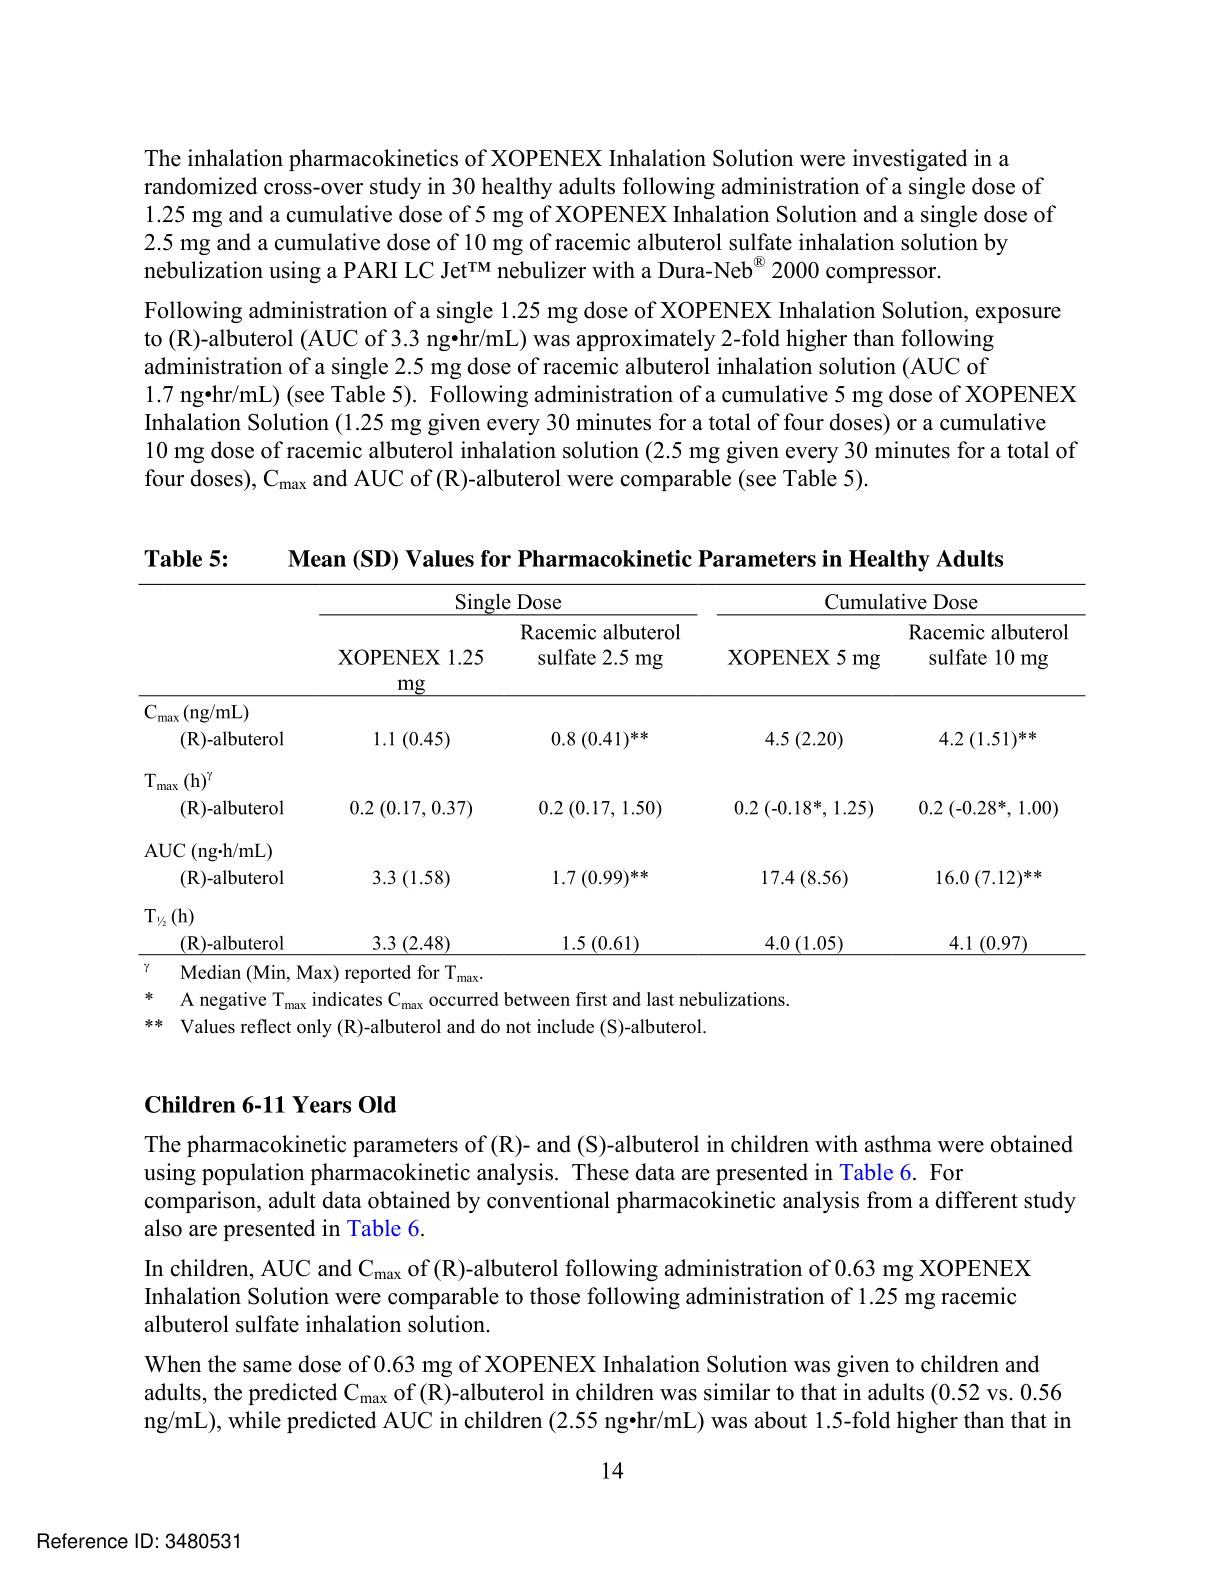partial_lined_merged_cells: (138, 582, 1086, 957)
